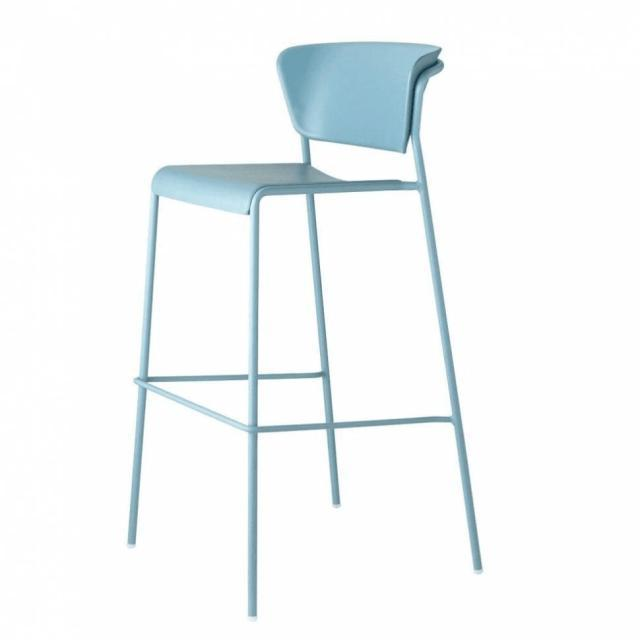chair: (123, 36, 489, 624), (150, 40, 444, 214)
